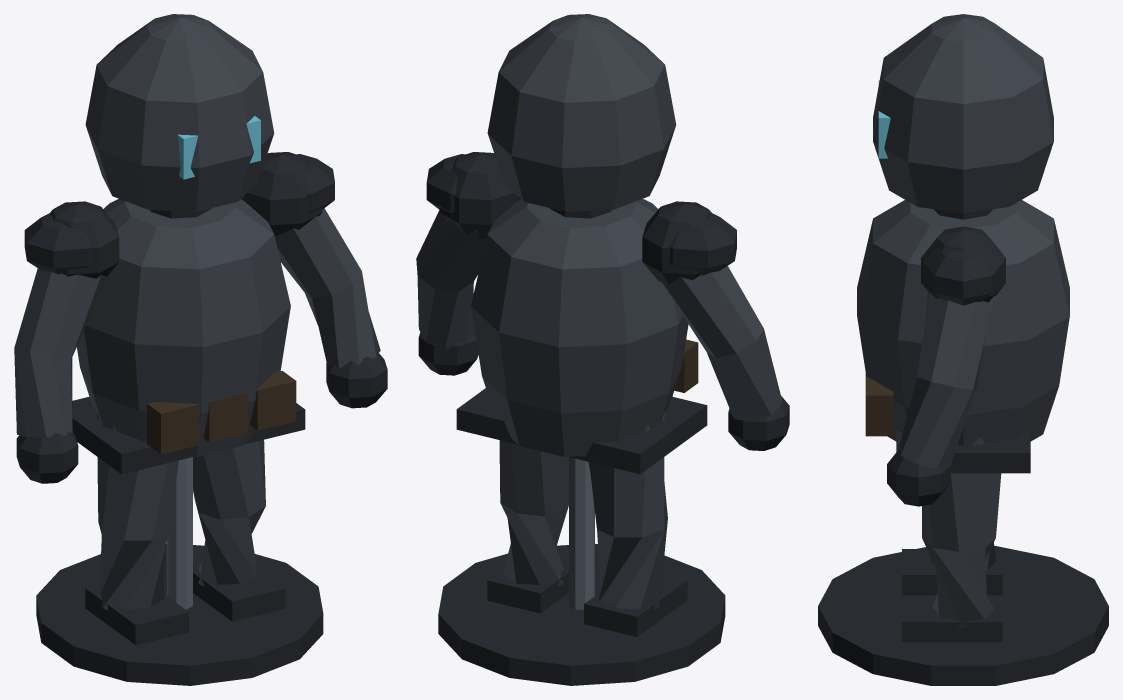
The model's file is combat-suit.glb.
The picture shows the model from 3 angles, left to right: view 1: azimuth 30°, elevation 25°; view 2: azimuth 150°, elevation 25°; view 3: azimuth 270°, elevation 25°; orthographic projection.
Parts seen in each view (by area): view 1: m; view 2: m; view 3: m.
Part boxes in pixels (left/top/right/bottom): m: left=14, top=14, right=387, bottom=685; m: left=416, top=14, right=789, bottom=685; m: left=818, top=14, right=1108, bottom=685.
Size of the model in its own units: 0.352 by 0.56 by 0.2426.
